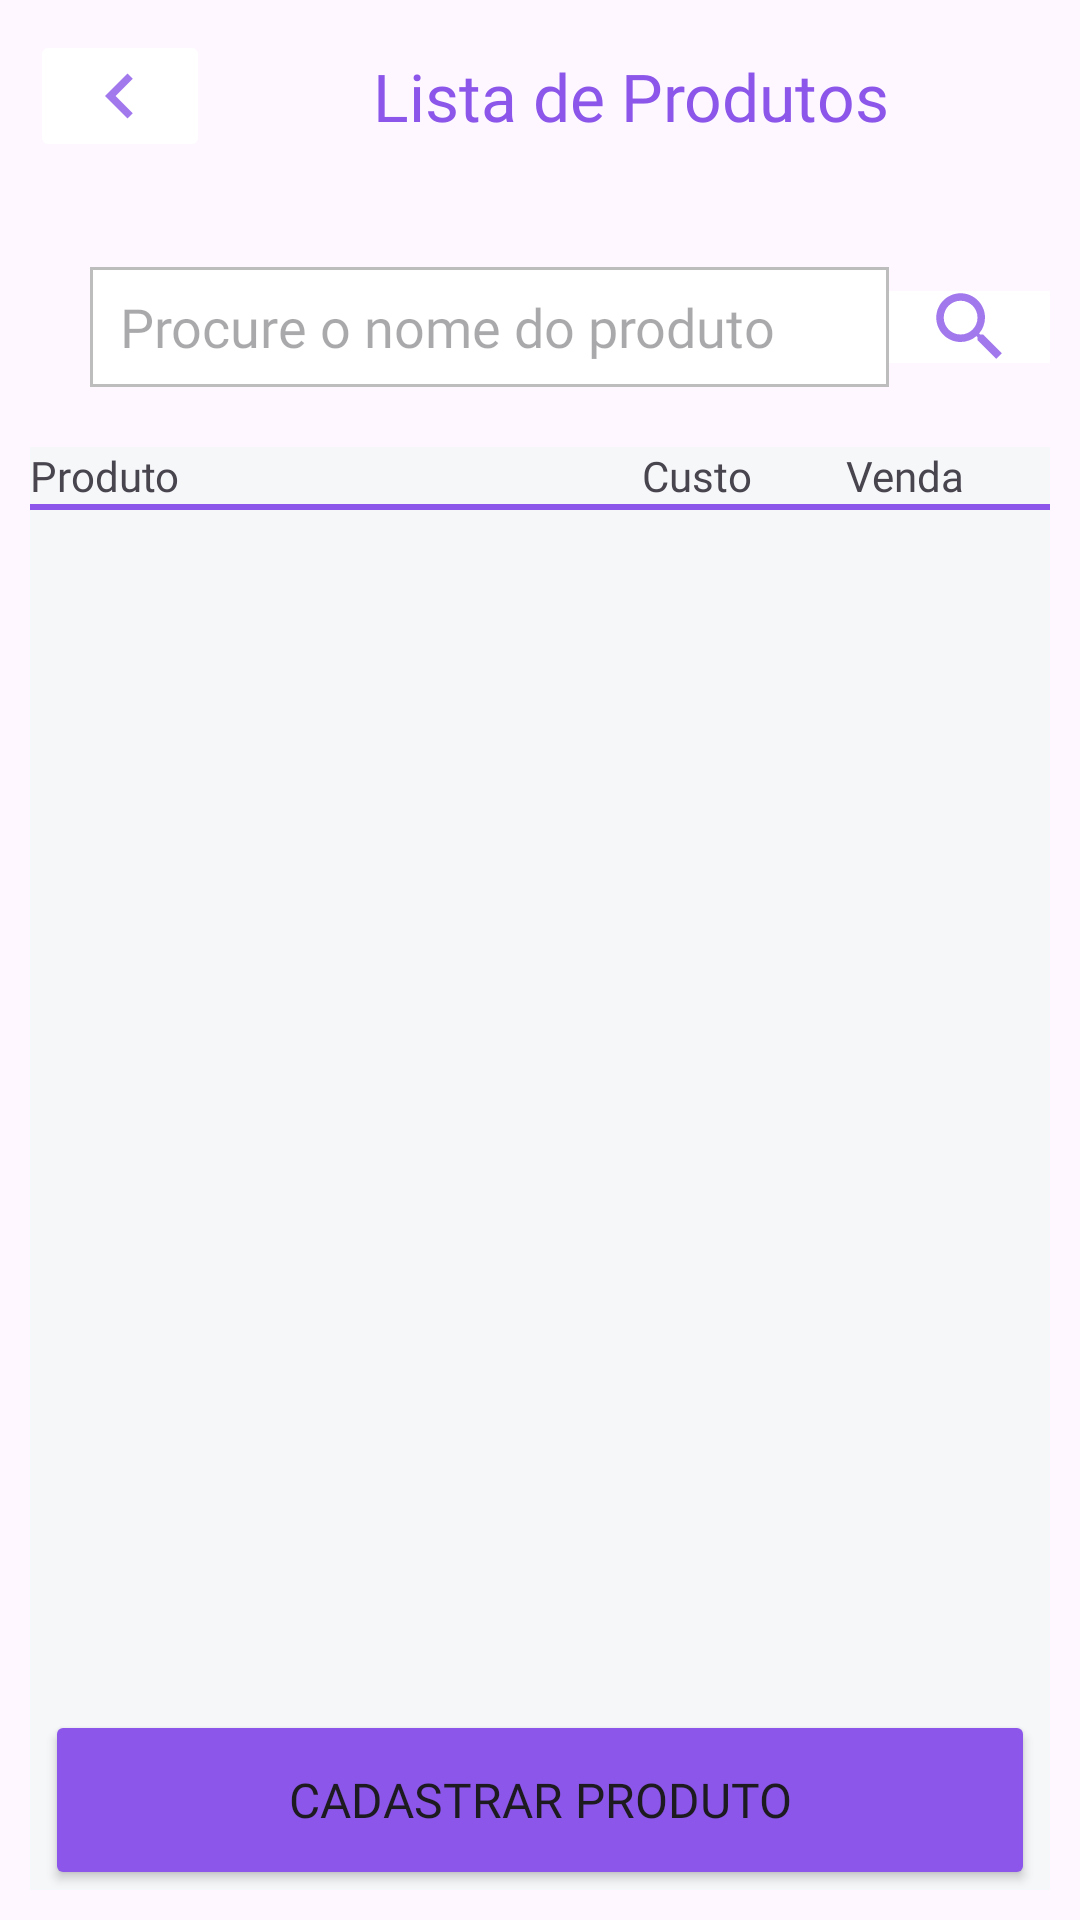

Screen size 1080 × 1920. Icon name, then its box in pixels as (x1, y1, x2, y2):
search roxo: (936, 293, 1002, 359)
voltar roxo: (105, 73, 133, 119)
